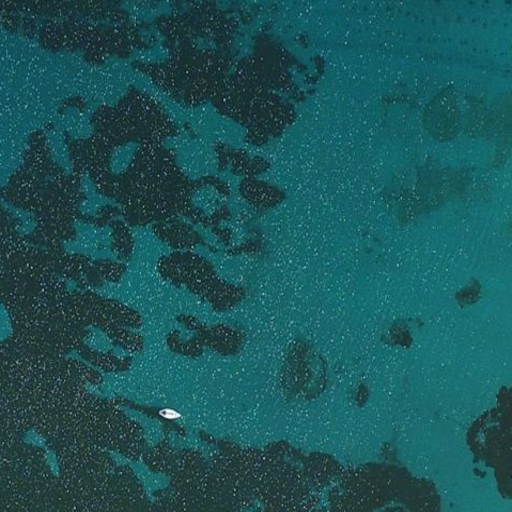ship: (154, 406, 184, 421)
